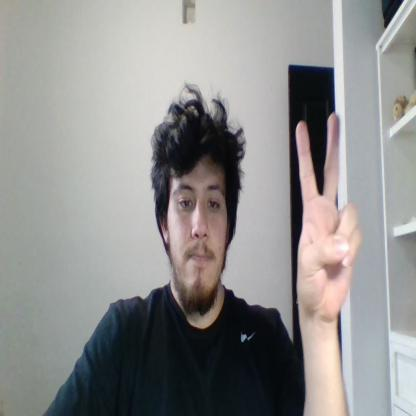V: (296, 112, 360, 323)
